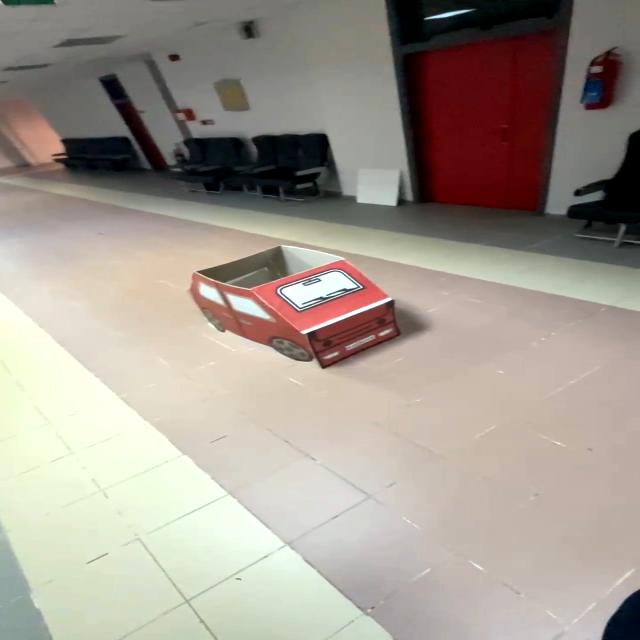red_car: (128, 220, 423, 395)
